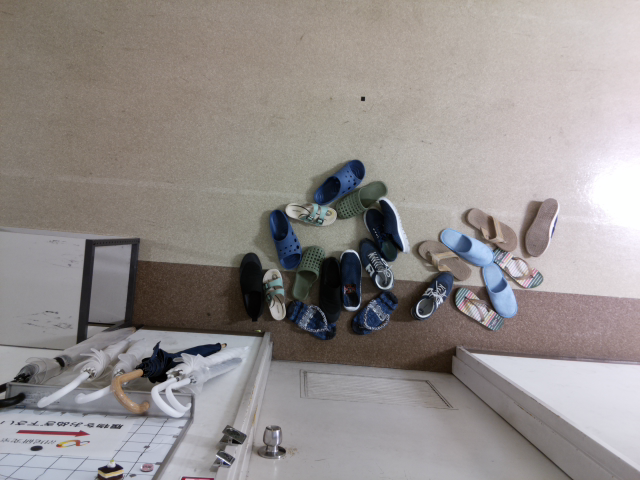Copy of Copy of Copy of Copy of Copy of Copy of Copy of sandal: (284, 201, 336, 226)
Copy of Copy of Copy of Copy of Copy of Copy of Copy of shoes: (522, 197, 560, 257)
Copy of Copy of Copy of Copy of Copy of Copy of sandal: (262, 268, 286, 320)
Copy of Copy of Copy of Copy of Copy of Copy of shoes: (378, 198, 409, 253)
Copy of Copy of Copy of Copy of Copy of sandal: (285, 299, 337, 341)
Copy of Copy of Copy of Copy of Copy of shoes: (363, 206, 398, 261)
Copy of Copy of Copy of Copy of Copy of slipper: (290, 244, 325, 301)
Copy of Copy of Copy of Copy of sandal: (349, 290, 398, 337)
Copy of Copy of Copy of Copy of shoes: (410, 270, 454, 320)
Copy of Copy of Copy of Copy of slipper: (268, 208, 302, 268)
Copy of Copy of Copy of sandal: (491, 247, 543, 289)
Copy of Copy of Copy of shoes: (357, 237, 395, 291)
Copy of Copy of Copy of slipper: (313, 159, 365, 206)
Copy of Copy of sandal: (455, 285, 504, 332)
Copy of Copy of shoes: (338, 249, 361, 311)
Copy of Copy of slipper: (335, 179, 387, 220)
Copy of sandal: (418, 239, 471, 280)
Copy of shoes: (318, 255, 340, 322)
Copy of slipper: (480, 262, 518, 317)
sandal: (465, 207, 518, 251)
shoes: (239, 251, 265, 322)
slipper: (438, 227, 492, 267)
